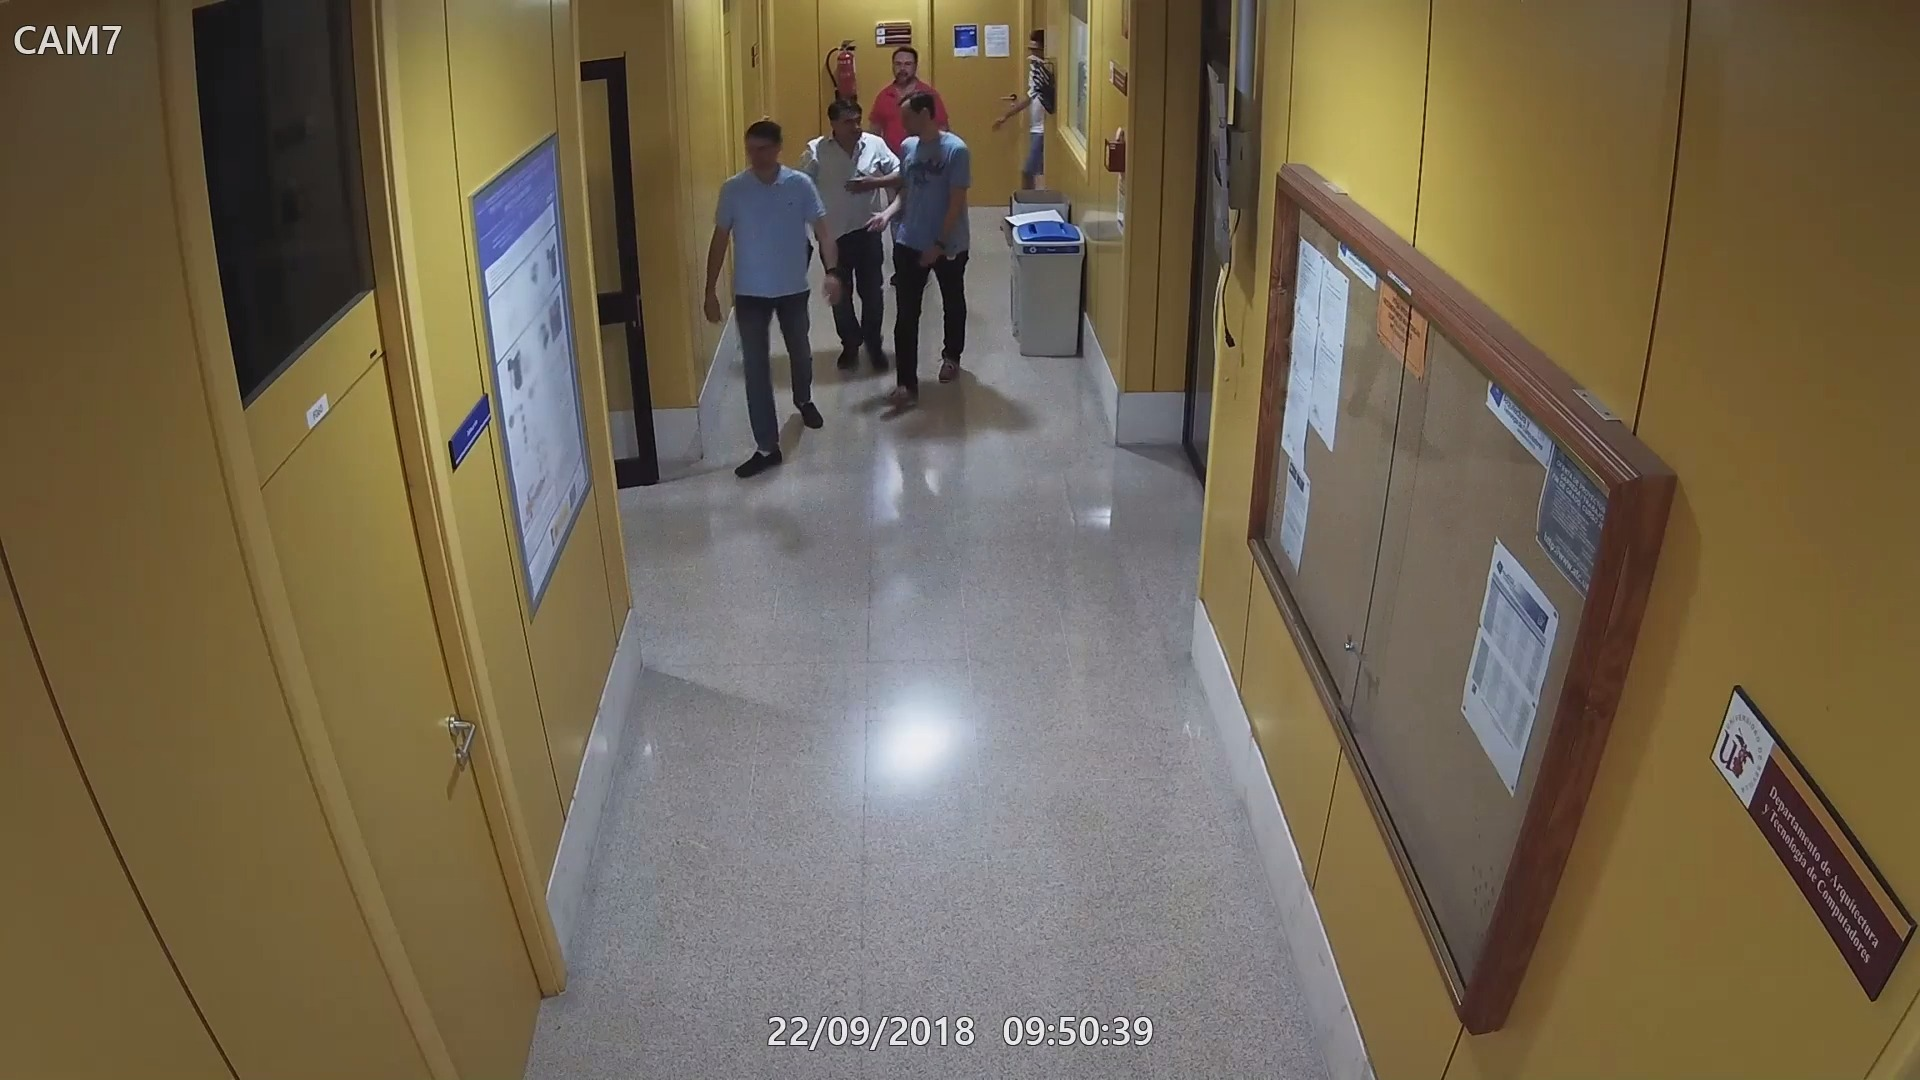Handgun: (800, 222, 818, 272)
